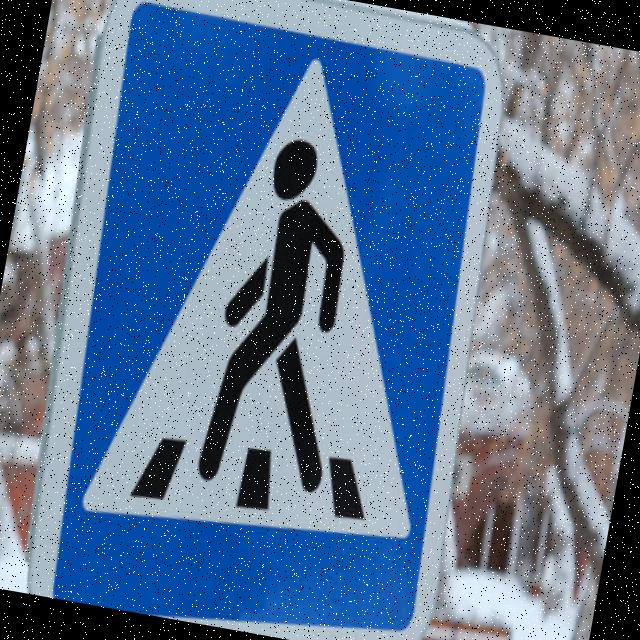crosswalk: (0, 0, 547, 640)
